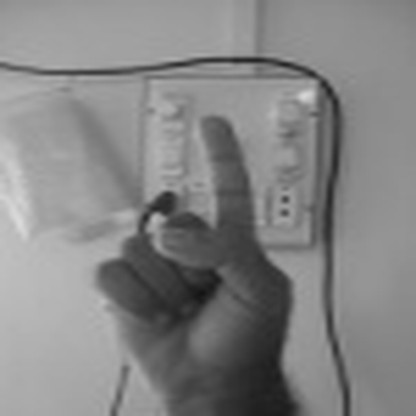d: (94, 110, 296, 390)
